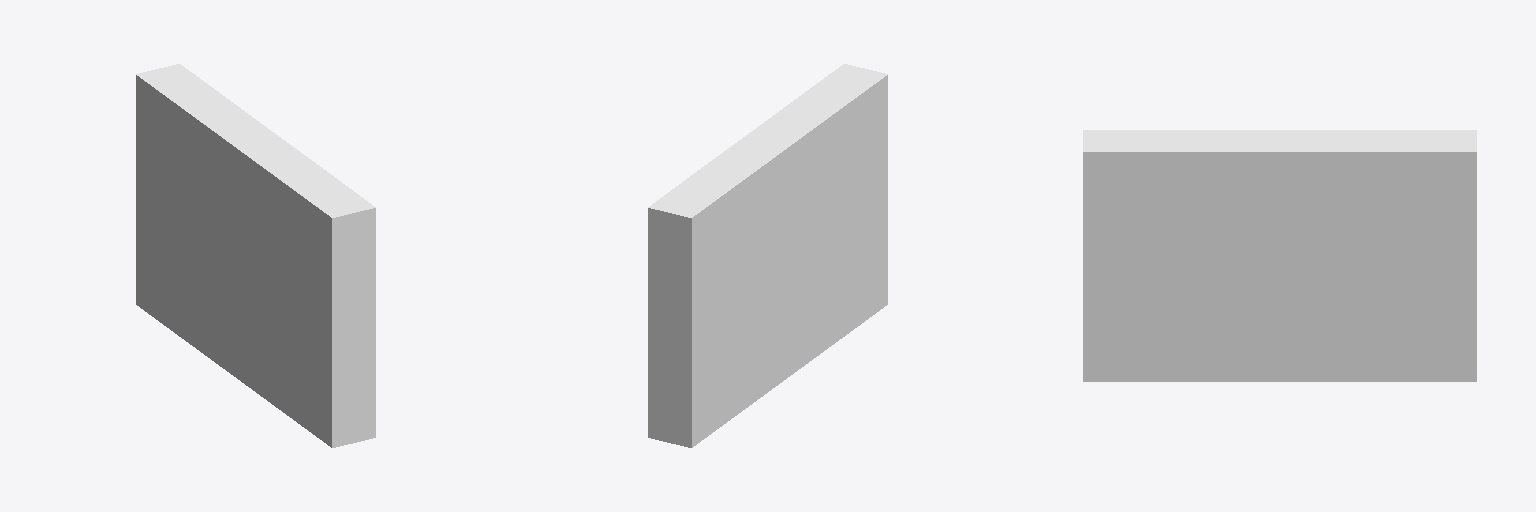
The model's file is Wall(DogTreats)vox.obj.
3 renders of one model, left to right at view 1: azimuth 30°, elevation 25°; view 2: azimuth 150°, elevation 25°; view 3: azimuth 270°, elevation 25°, orthographic.
Visible parts, largest first — view 1: object 1; view 2: object 1; view 3: object 1.
Boxes of the visible parts, box(x1,y1,x2,y2) form: object 1: box(136, 64, 375, 447); object 1: box(648, 64, 887, 447); object 1: box(1083, 130, 1476, 381).
Bounding box in the file's own units: 0.4 × 2 × 3.1.